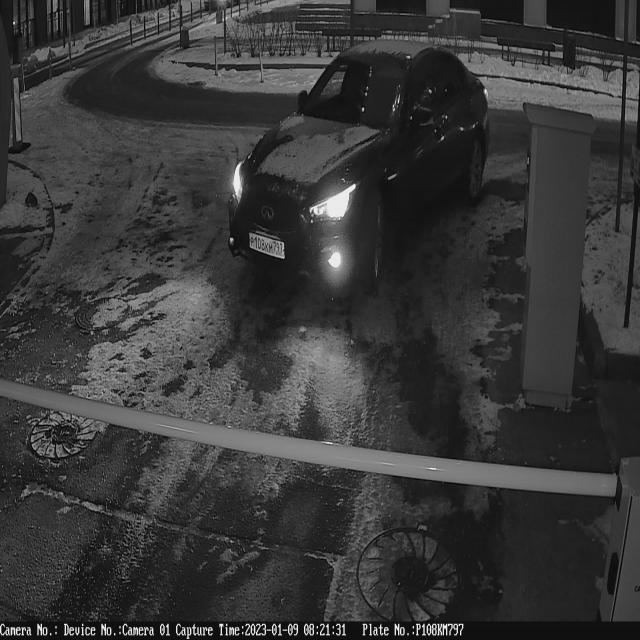car-plate-numbers: (246, 230, 290, 263)
